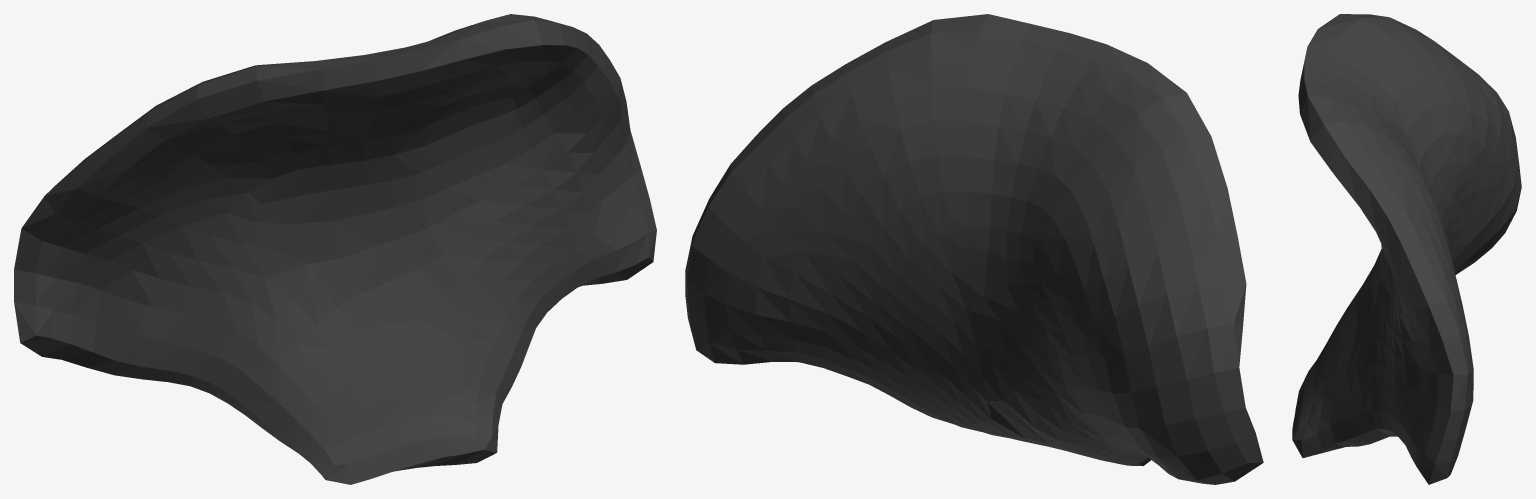
File: Intersesamoidean_lig.glb
The picture shows the model from 3 angles, left to right: view 1: azimuth 30°, elevation 25°; view 2: azimuth 150°, elevation 25°; view 3: azimuth 270°, elevation 25°; orthographic projection. The views are drawn at different scales.
Visible parts, largest first — view 1: Intersesamoidean_lig; view 2: Intersesamoidean_lig; view 3: Intersesamoidean_lig.
Boxes of the visible parts, x1=… form: Intersesamoidean_lig: x1=14, y1=14, x2=656, y2=484; Intersesamoidean_lig: x1=685, y1=14, x2=1263, y2=484; Intersesamoidean_lig: x1=1292, y1=14, x2=1521, y2=484.
Size of the model in its own units: 1.6 by 1.06 by 0.6028.
Materials: 1 (1 with a texture image).
